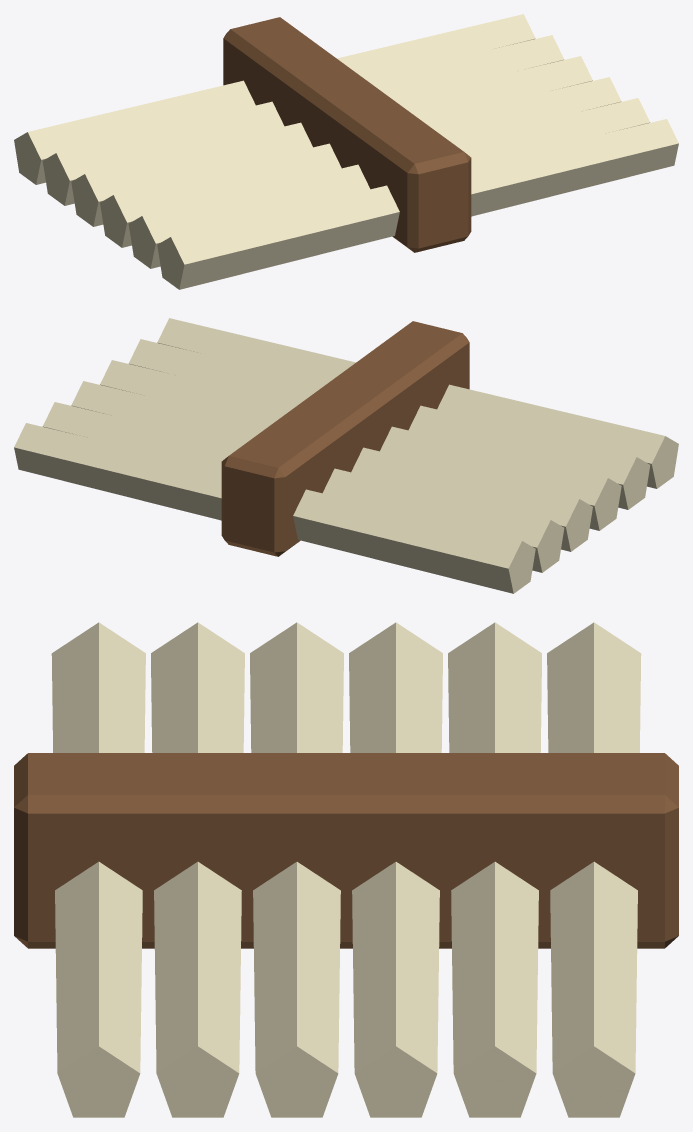
Rendered from CC_ResourceFiber.fbx.
3 renders of one model, top to bottom at view 1: azimuth 30°, elevation 25°; view 2: azimuth 150°, elevation 25°; view 3: azimuth 270°, elevation 25°, orthographic. The views are drawn at different scales.
Parts seen in each view (by area): view 1: Tie, Fiber, Fiber.001, Fiber.003, Fiber.004, Fiber.005, Fiber.002; view 2: Tie, Fiber.005, Fiber.004, Fiber.002, Fiber.001, Fiber, Fiber.003; view 3: Tie, Fiber, Fiber.005, Fiber.001, Fiber.004, Fiber.002, Fiber.003.
Boxes of the visible parts, box(x1,y1,x2,y2) form: Tie: box(223, 17, 471, 252); Fiber: box(157, 119, 678, 289); Fiber.001: box(128, 98, 650, 268); Fiber.003: box(71, 56, 592, 226); Fiber.004: box(42, 35, 564, 205); Fiber.005: box(14, 14, 535, 184); Fiber.002: box(100, 77, 621, 247); Tie: box(221, 321, 469, 556); Fiber.005: box(14, 423, 535, 593); Fiber.004: box(42, 402, 564, 572); Fiber.002: box(100, 360, 621, 530); Fiber.001: box(128, 339, 650, 509); Fiber: box(157, 318, 678, 488); Fiber.003: box(71, 381, 592, 551); Tie: box(14, 753, 678, 948); Fiber: box(51, 622, 145, 1117); Fiber.005: box(547, 622, 641, 1117); Fiber.001: box(151, 622, 244, 1117); Fiber.004: box(448, 622, 541, 1117); Fiber.002: box(250, 622, 343, 1117); Fiber.003: box(349, 622, 442, 1117).
Bounding box in the file's own units: 0.7 × 0.12 × 0.47.
